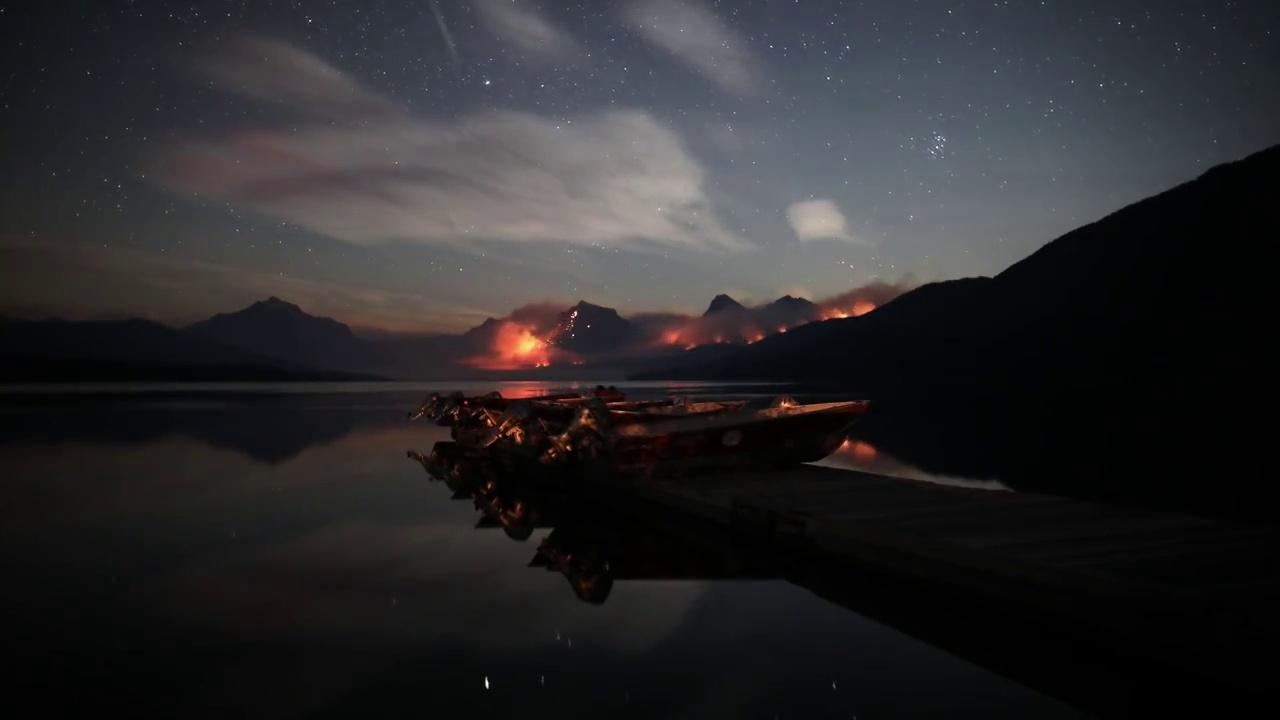fire: (478, 320, 554, 370)
